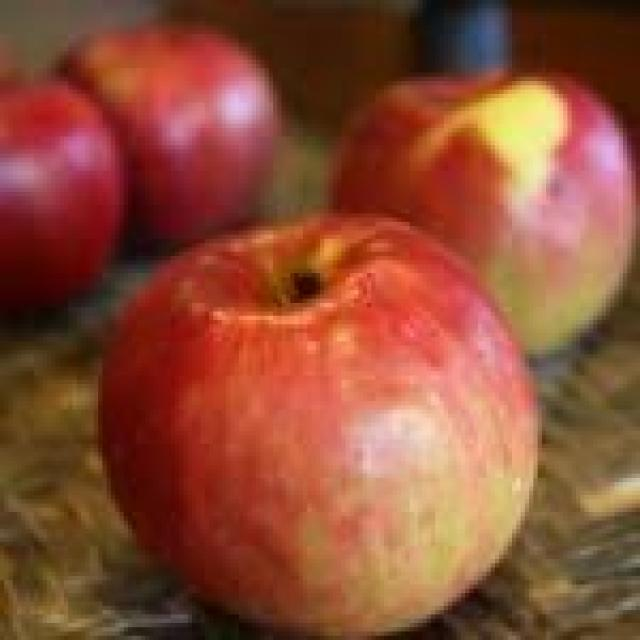apple: (90, 209, 538, 640)
